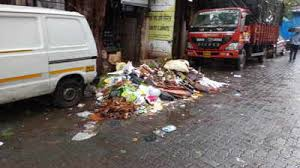garbage: (100, 56, 200, 111)
